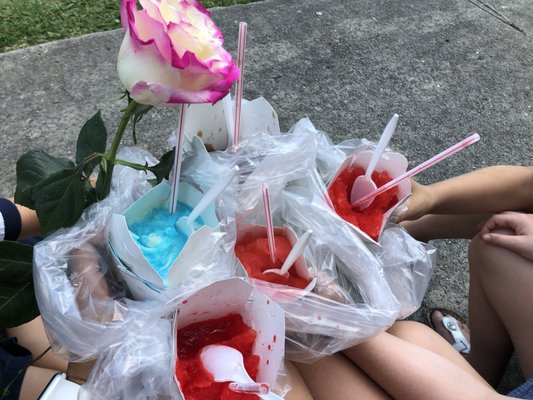steak: (325, 148, 412, 243)
